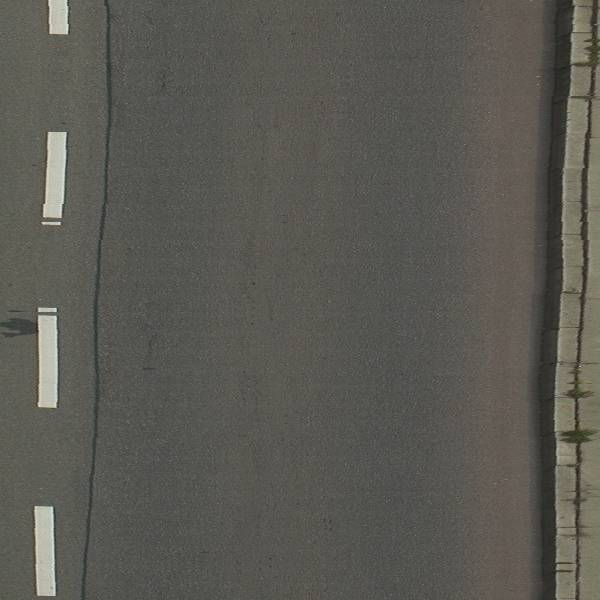road_damage: (68, 3, 119, 600)
